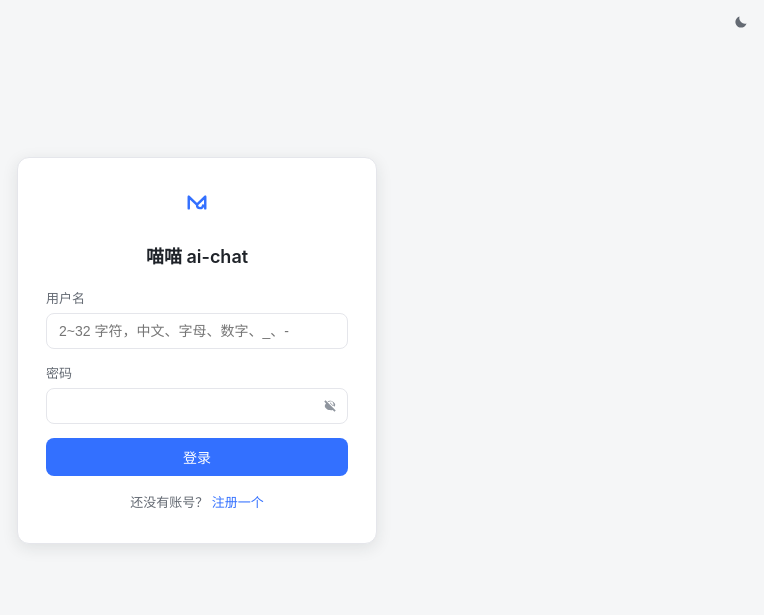
it: 注册模式 › 密码不足 8 位：字段行内拦截
The width and height of the screenshot is (764, 615).
Click the button with class "switch-btn" at (238,501), box top-left (212, 492), bottom-right (264, 510)
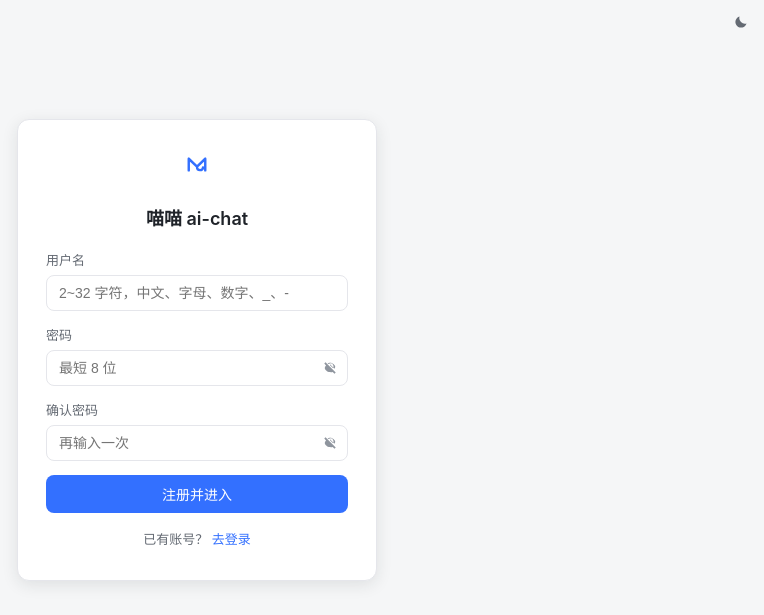
Type "alice" into the field labelled "用户名" at (197,293), box top-left (46, 275), bottom-right (348, 311)
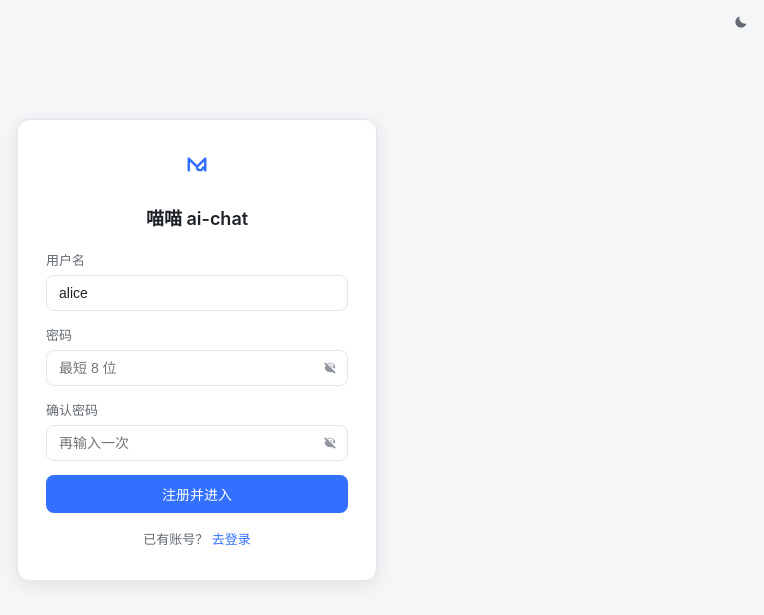
Type "1234567" into the password field labelled "密码" at (197,368), box top-left (46, 350), bottom-right (348, 386)
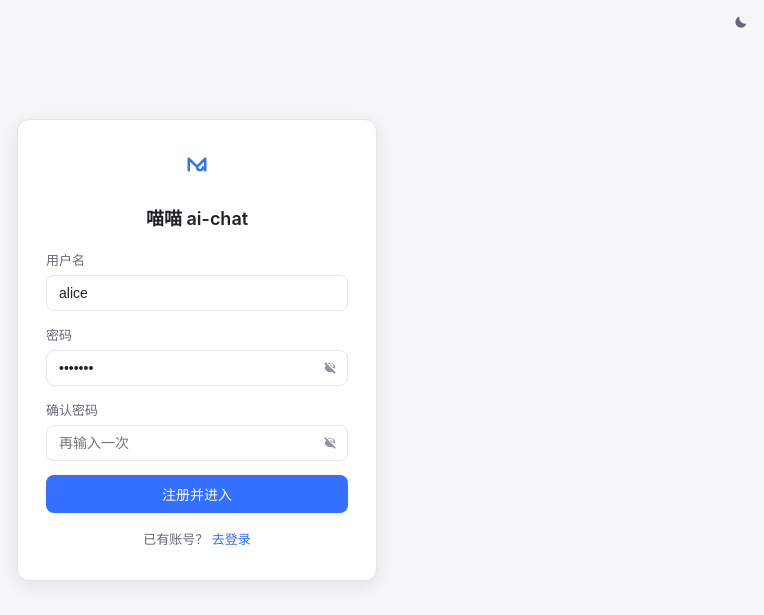
Type "1234567" into the password field labelled "确认密码" at (197,443), box top-left (46, 425), bottom-right (348, 461)
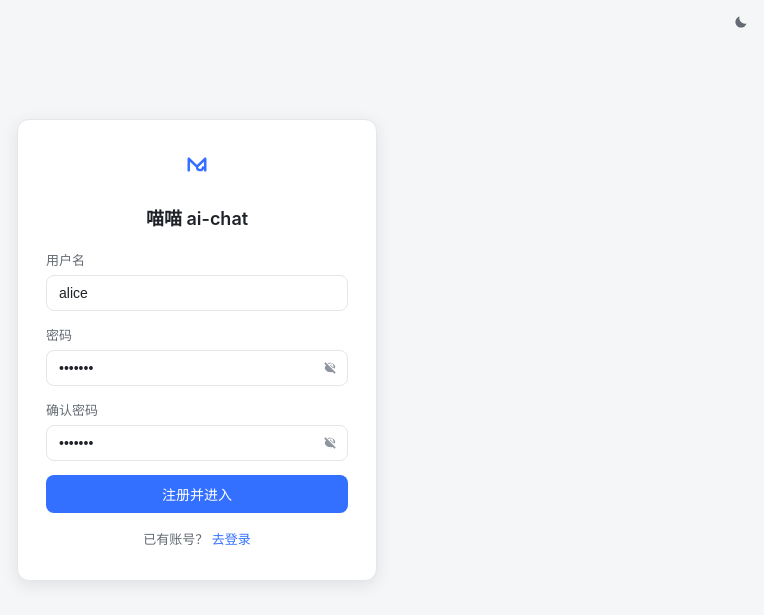
Submit the form, box top-left (46, 250), bottom-right (348, 513)
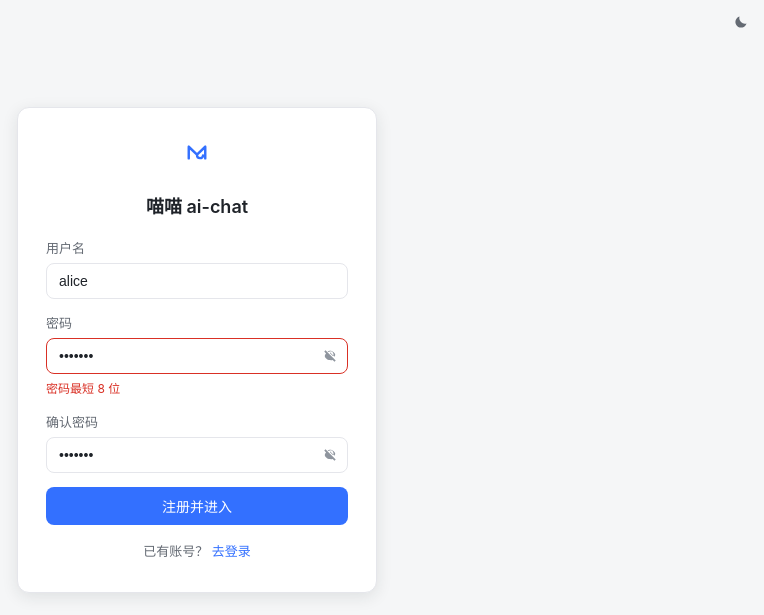
Check: the text with class "field-error" reads "密码最短 8 位", box top-left (46, 381), bottom-right (120, 396)
